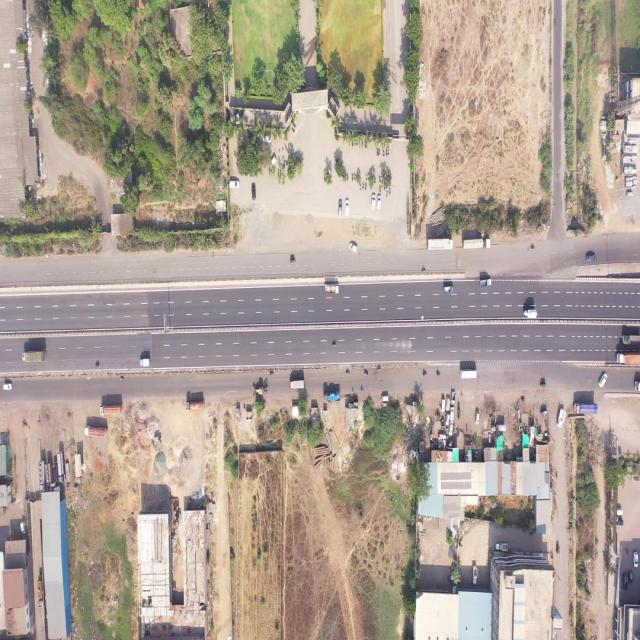3W: (496, 423, 506, 432), (556, 544, 560, 555), (540, 382, 546, 389), (541, 409, 547, 416)
Bus: (460, 369, 477, 379)
Cars: (598, 373, 608, 388), (348, 242, 358, 254), (632, 550, 638, 569), (251, 185, 257, 200), (381, 394, 390, 404), (229, 180, 240, 188), (20, 521, 26, 534), (3, 383, 12, 391), (587, 254, 596, 262), (371, 194, 376, 208), (628, 570, 633, 584), (441, 399, 446, 413), (345, 199, 349, 216), (338, 200, 342, 216), (623, 574, 627, 590), (616, 518, 624, 526), (446, 398, 450, 412), (377, 195, 381, 208), (474, 412, 478, 424), (617, 509, 623, 516)
LCV: (556, 408, 566, 428), (325, 284, 339, 294), (495, 542, 508, 551), (524, 310, 538, 318), (480, 279, 492, 288), (139, 358, 150, 367), (473, 566, 478, 584), (443, 286, 453, 294), (451, 392, 456, 404)
M2W: (521, 394, 525, 402), (378, 148, 381, 157), (364, 371, 369, 376), (378, 175, 381, 183), (388, 186, 391, 194), (292, 122, 296, 128), (436, 371, 440, 377), (423, 371, 427, 376), (346, 370, 350, 375), (270, 371, 274, 376), (120, 376, 124, 381), (387, 147, 389, 156), (376, 147, 378, 156), (386, 189, 388, 197), (386, 148, 388, 156), (382, 149, 384, 157), (530, 246, 534, 250), (362, 183, 364, 190), (379, 185, 381, 192), (346, 175, 348, 181), (366, 176, 368, 182), (361, 141, 363, 147), (356, 142, 358, 148), (332, 343, 335, 347), (96, 364, 99, 367), (365, 141, 366, 148), (352, 175, 353, 181), (354, 174, 355, 180), (365, 184, 366, 190), (360, 184, 361, 190)
MAV: (85, 426, 106, 438), (100, 405, 121, 416), (57, 452, 64, 484), (186, 401, 205, 411), (39, 461, 45, 491), (37, 580, 43, 609)
Truck: (615, 353, 640, 366), (22, 350, 46, 362), (573, 403, 598, 414), (323, 391, 340, 403), (622, 334, 640, 345), (290, 380, 304, 389)
